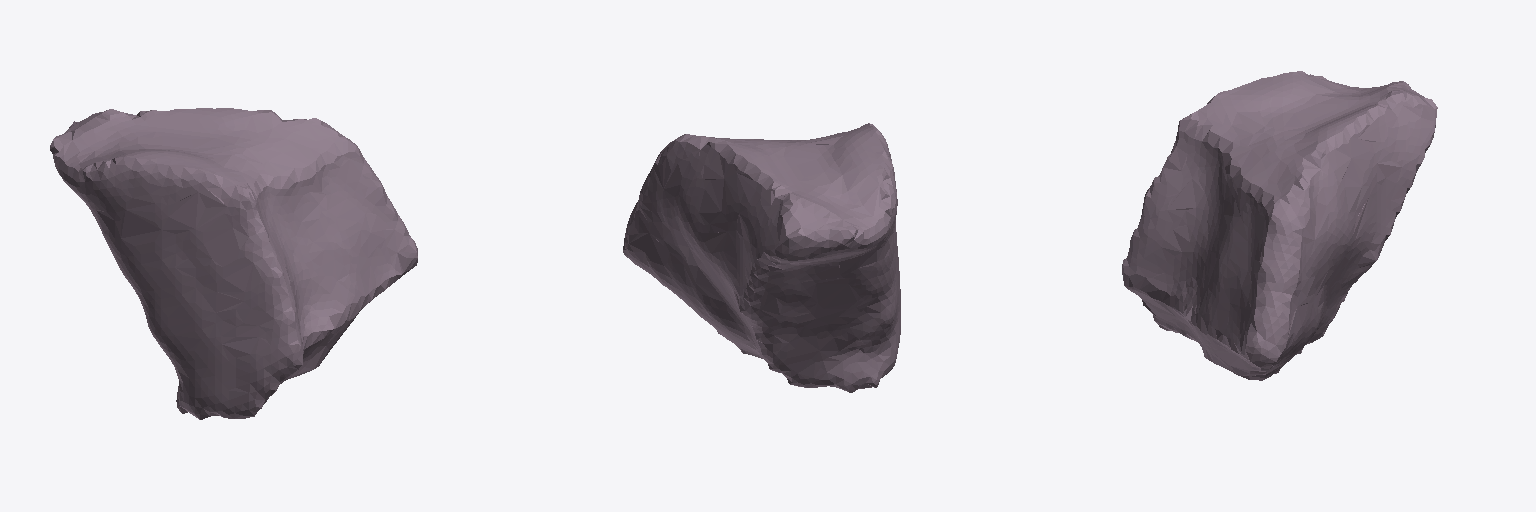
File: Model_10122_LH__Secondary_somatosensory_cortex__external_part_(S2E).obj
The picture shows the model from 3 angles: view 1: azimuth 30°, elevation 25°; view 2: azimuth 150°, elevation 25°; view 3: azimuth 270°, elevation 25°; orthographic projection.
Bounding box in the file's own units: 3.24 × 2.58 × 2.94.